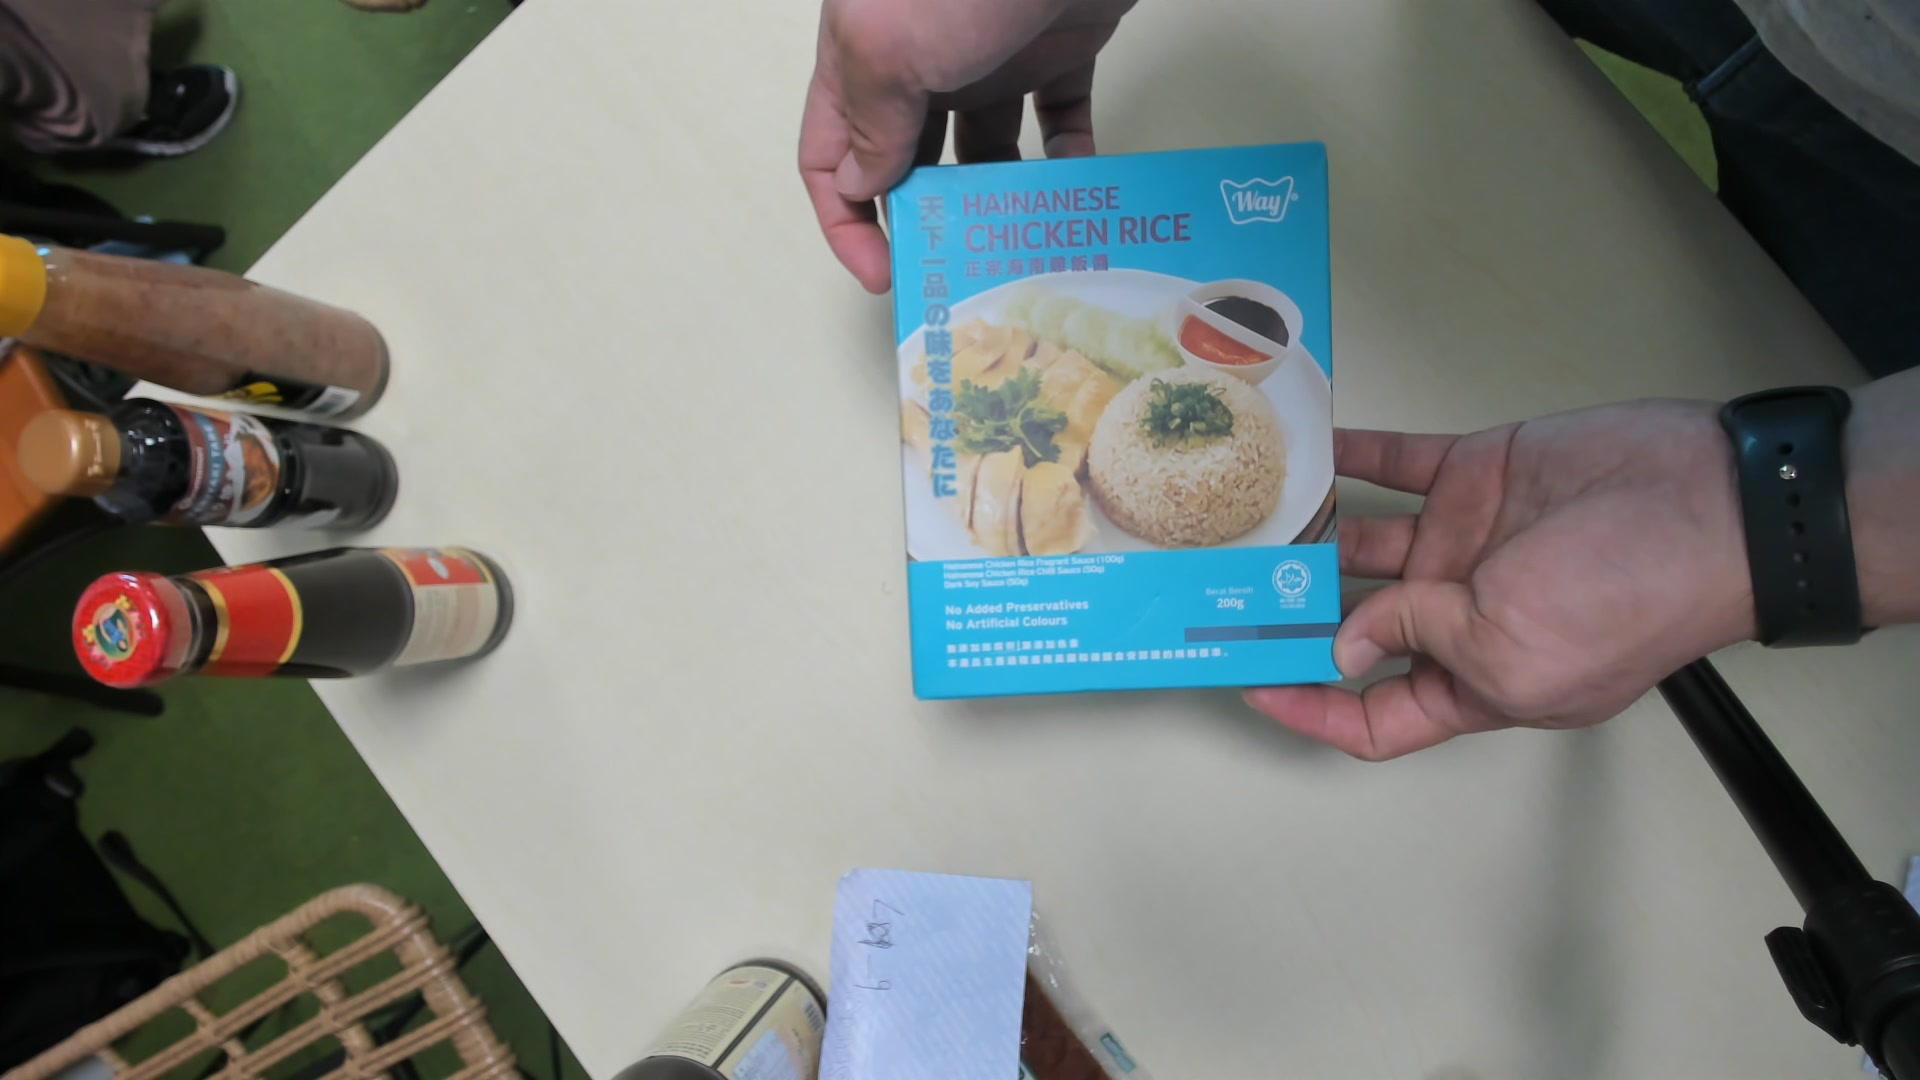OtherSauceDressingSoupbasePaste_200-299g_Halal_NonHealthy: (890, 156, 1346, 705)
